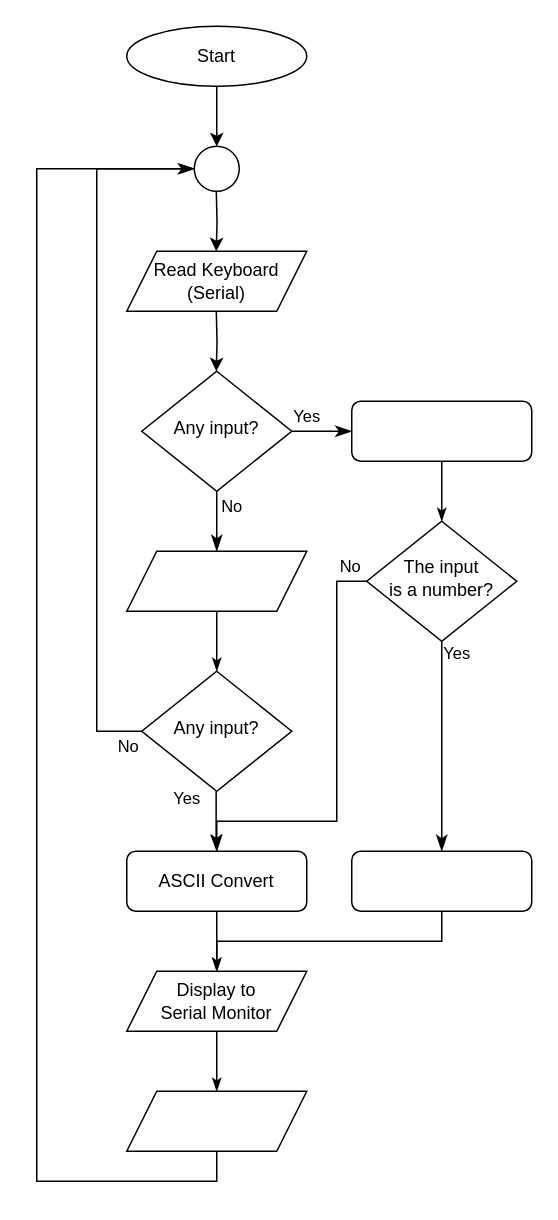
Image size: 558x1220. Some labels were removed from this diagram. The shapes that lost their labels are listed below. From the top down, each one's box as (x1, y1, x2, y2) in pixels, then its label:
(350, 400, 532, 461): Number Checking
(125, 550, 307, 611): Read Keypad
(350, 850, 532, 911): Decimal Convert
(125, 1090, 307, 1151): Display to OLED
